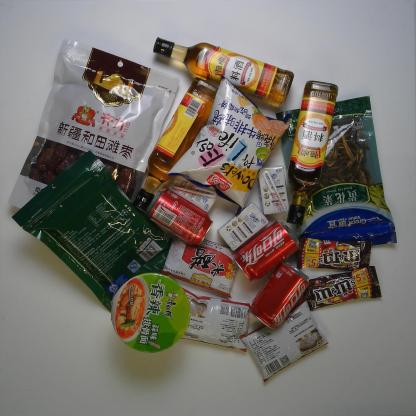Chocolate: (304, 268, 384, 310), (295, 236, 372, 274)
Dried Food: (18, 30, 179, 219), (10, 145, 177, 314), (277, 93, 397, 249)
Drink: (147, 186, 214, 246), (236, 221, 304, 278), (255, 264, 308, 328)
Instant Noodles: (110, 269, 192, 353)
Milk: (219, 202, 272, 249), (168, 172, 218, 213), (257, 167, 288, 213)
Puffed Food: (172, 81, 287, 212)
Seasoner: (130, 78, 218, 214), (150, 36, 291, 108), (286, 71, 338, 231), (240, 303, 328, 383), (164, 286, 251, 355), (162, 224, 239, 297)
